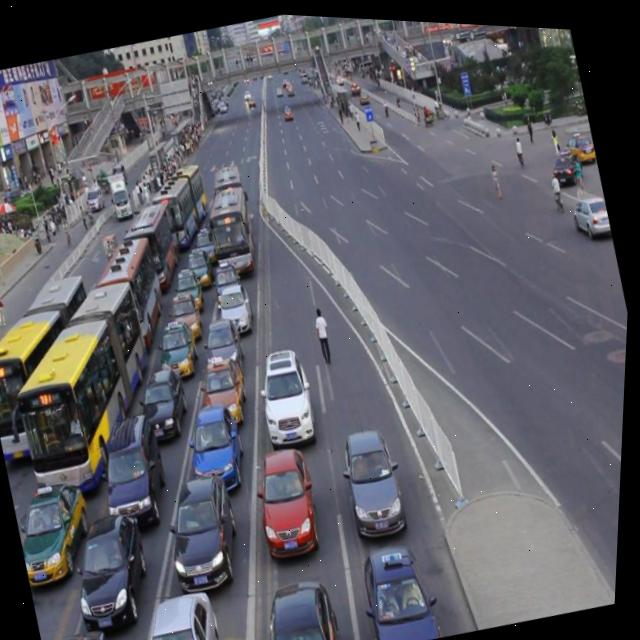car: (66, 512, 167, 637), (162, 474, 257, 600), (13, 478, 107, 590), (94, 414, 181, 534), (358, 536, 451, 640), (251, 446, 333, 561), (338, 426, 418, 541), (254, 347, 327, 451), (186, 403, 257, 498), (255, 575, 351, 640), (135, 589, 236, 640), (138, 367, 200, 447), (199, 355, 258, 432), (202, 317, 254, 385), (156, 319, 207, 383), (568, 185, 615, 235), (217, 286, 260, 337), (170, 294, 209, 343), (172, 266, 208, 314), (547, 141, 585, 186), (212, 260, 249, 305), (183, 247, 219, 292), (559, 121, 597, 159), (193, 227, 223, 268)
van: (0, 278, 183, 512), (0, 269, 126, 463), (84, 233, 180, 362), (145, 162, 221, 256), (119, 202, 191, 298), (203, 186, 265, 279), (210, 165, 258, 238)
